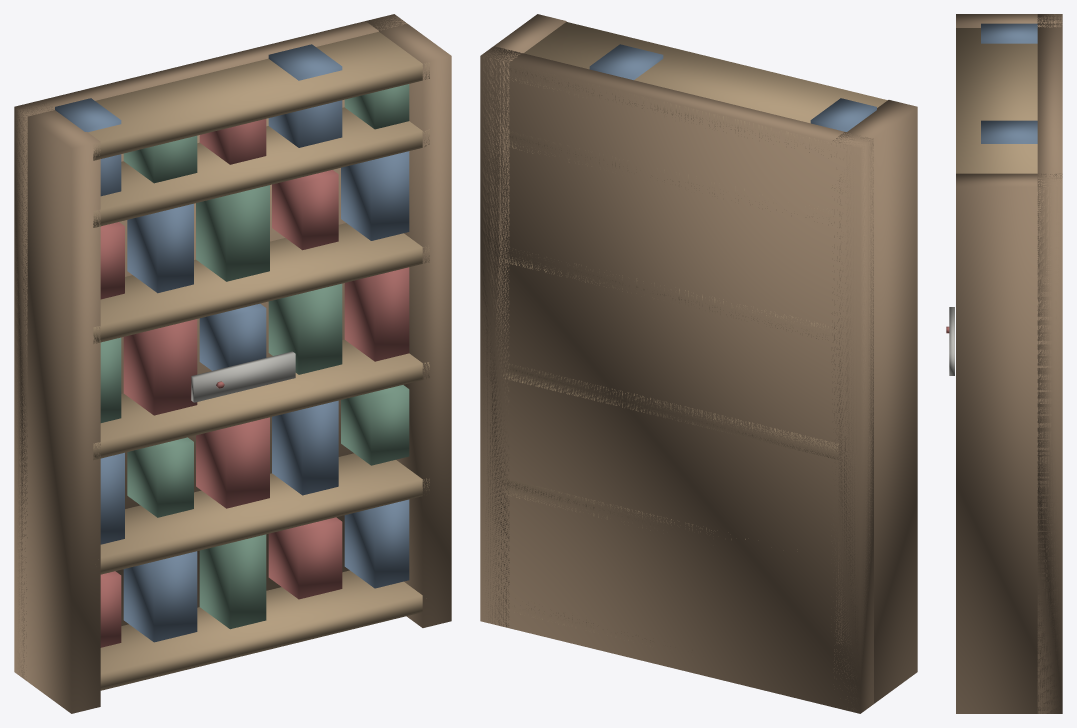
Rendered from bookcase_bay__wide.glb.
3 renders of one model, left to right at view 1: azimuth 30°, elevation 25°; view 2: azimuth 150°, elevation 25°; view 3: azimuth 270°, elevation 25°, orthographic. The views are drawn at different scales.
Visible parts, largest first — view 1: world; view 2: world; view 3: world.
Boxes of the visible parts, x1,y1,x2,y2 form: world: (14, 14, 451, 713); world: (480, 14, 917, 713); world: (946, 14, 1062, 713).
Size of the model in its own units: 1.3 by 1.86 by 0.371.
